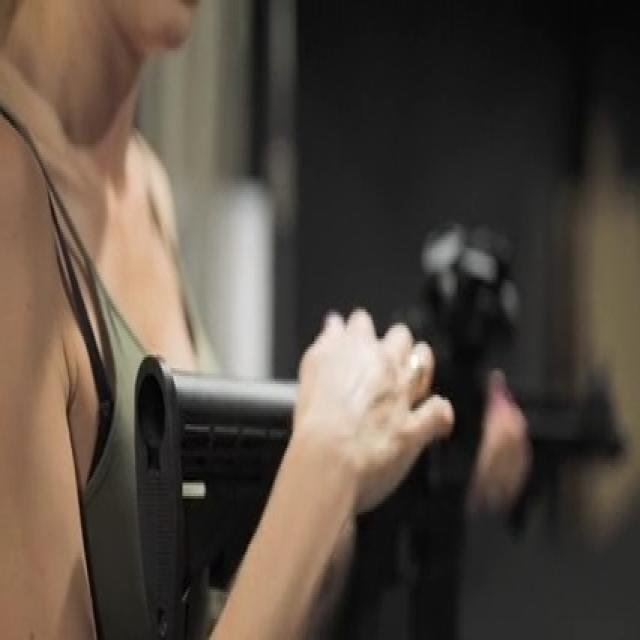Gun_Holder: (119, 181, 640, 640)
